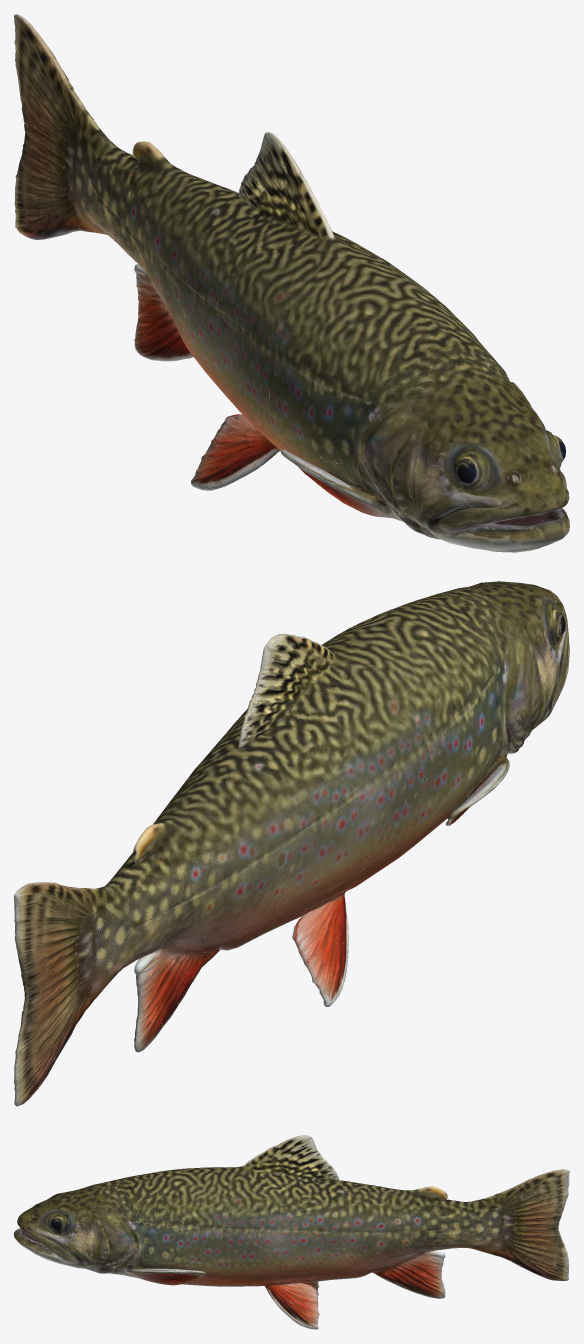
File: pstrag_zrodlany.glb
The picture shows the model from 3 angles, top to bottom: view 1: azimuth 30°, elevation 25°; view 2: azimuth 150°, elevation 25°; view 3: azimuth 270°, elevation 25°; orthographic projection. The views are drawn at different scales.
Parts seen in each view (by area): view 1: Mesh_0; view 2: Mesh_0; view 3: Mesh_0.
Boxes of the visible parts, x1,y1,x2,y2 form: Mesh_0: (14, 14, 569, 552); Mesh_0: (14, 581, 569, 1106); Mesh_0: (14, 1135, 569, 1329).
Size of the model in its own units: 0.3947 by 0.6696 by 1.9.
1 material, 1 textured.
